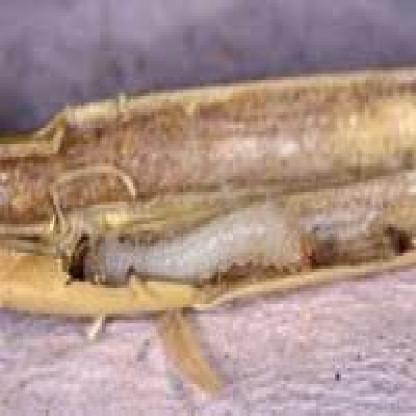sawfly: (57, 192, 306, 285)
